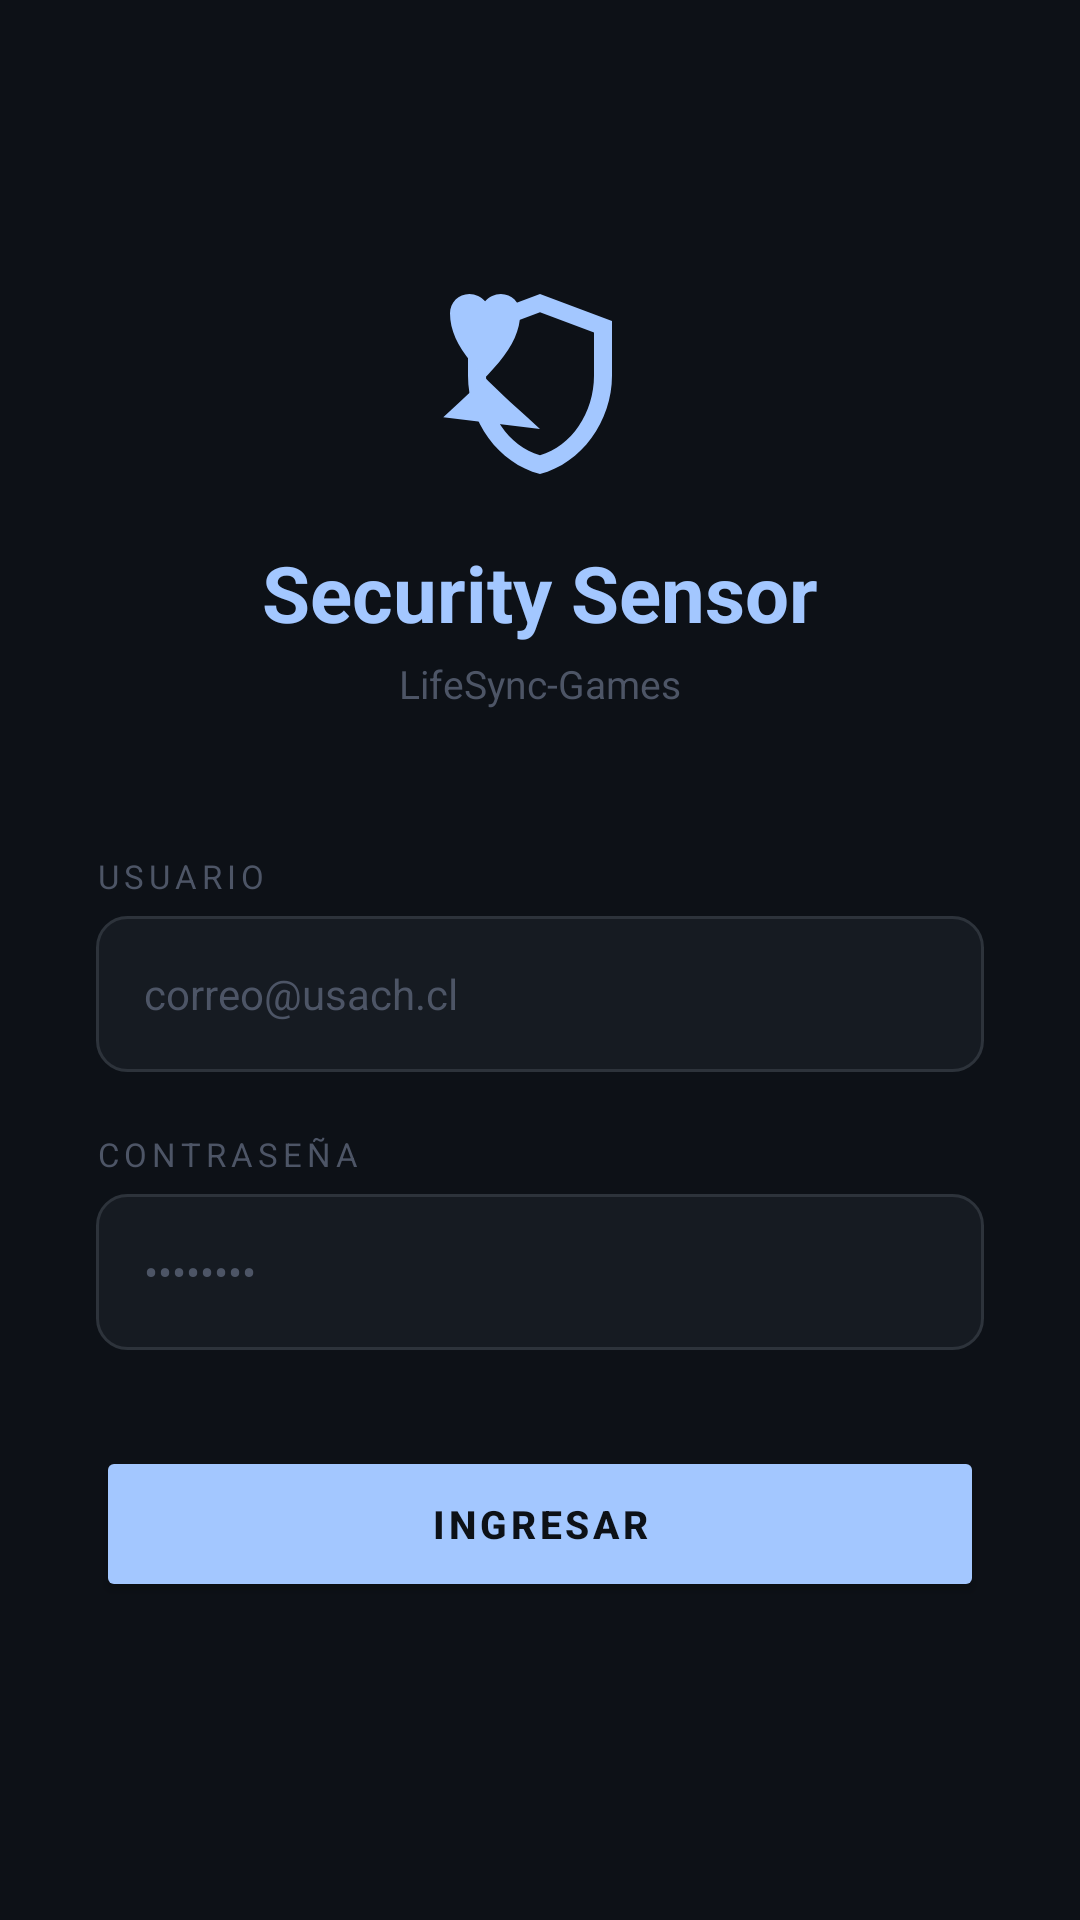

Where to tap for icons on this 1080w x 1920h app screen, as [x,y]:
Icono de escudo con corazón: [527,384]
